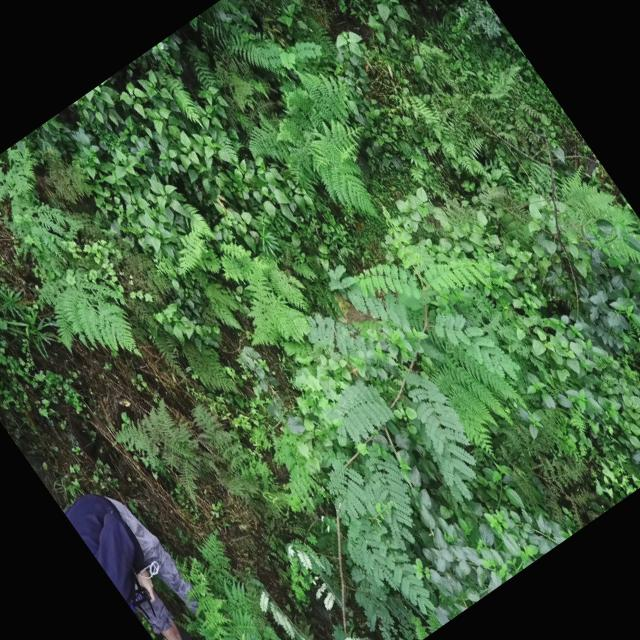Mysore-Thorn-Weed: (139, 192, 631, 640)
